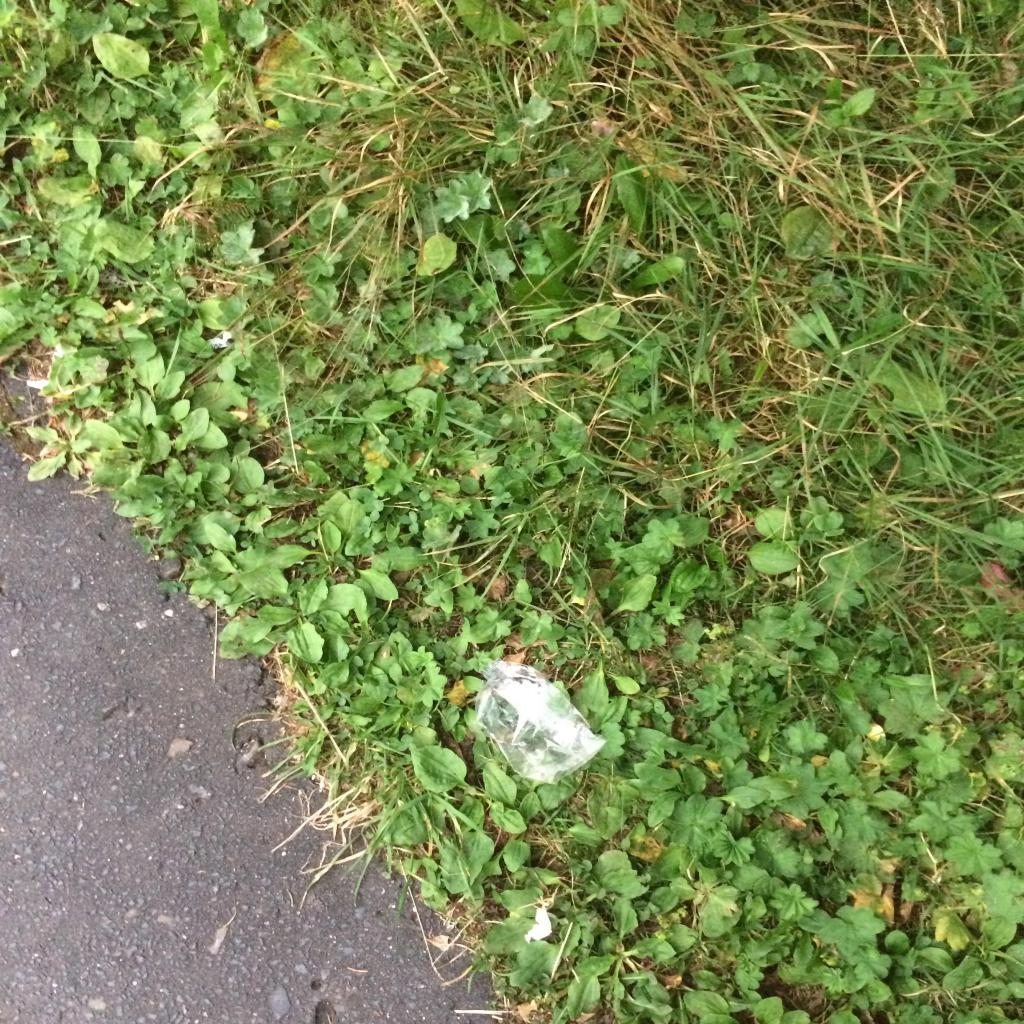Plastic film: (476, 656, 608, 784)
